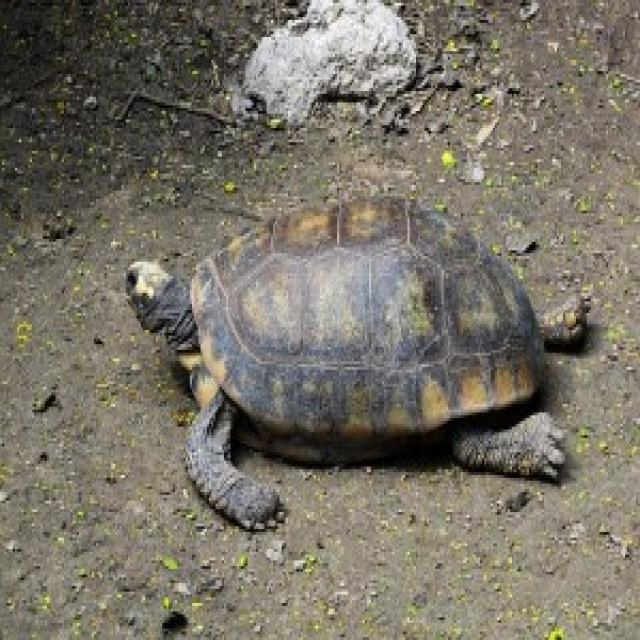Sea turtle: (118, 189, 592, 549)
